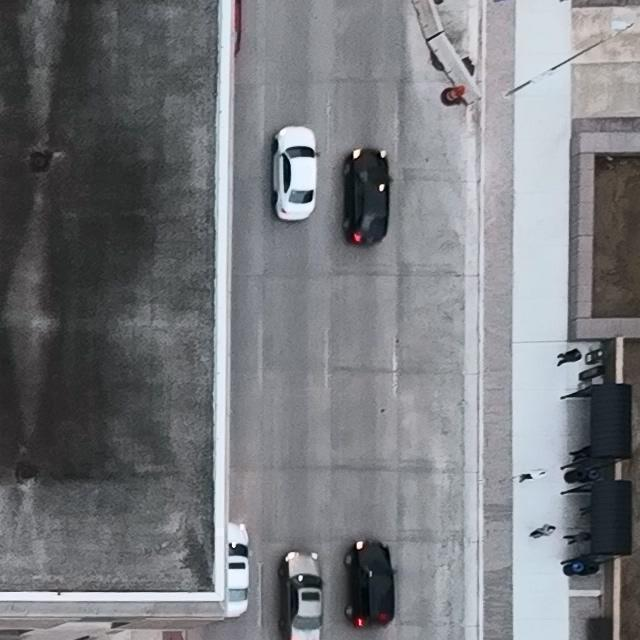car: (341, 146, 392, 246), (343, 539, 397, 629), (272, 125, 321, 224), (277, 550, 324, 640), (225, 522, 250, 617)
